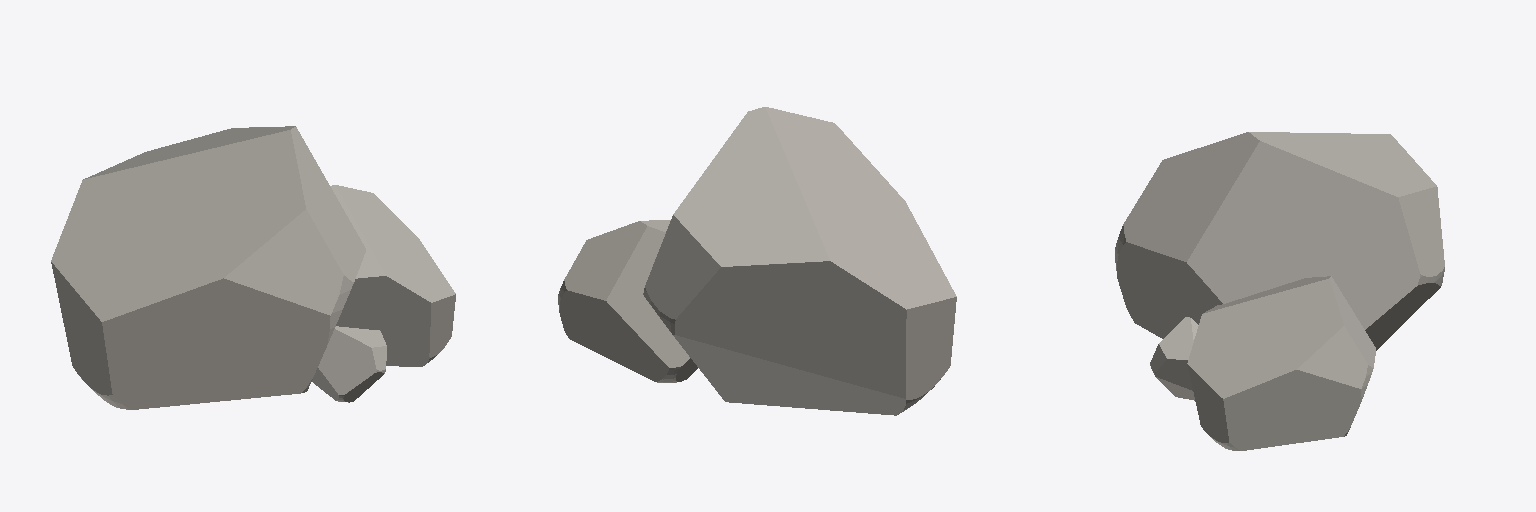
The picture shows the model from 3 angles: view 1: azimuth 30°, elevation 25°; view 2: azimuth 150°, elevation 25°; view 3: azimuth 270°, elevation 25°; orthographic projection.
Visible parts, largest first — view 1: roche_.002; view 2: roche_.002; view 3: roche_.002.
Boxes of the visible parts, box(x1,y1,x2,y2) form: roche_.002: box(51, 126, 455, 409); roche_.002: box(558, 107, 956, 415); roche_.002: box(1115, 132, 1444, 450).
Bounding box in the file's own units: 0.3217 × 0.2385 × 0.2678.
1 materials, 1 textured.